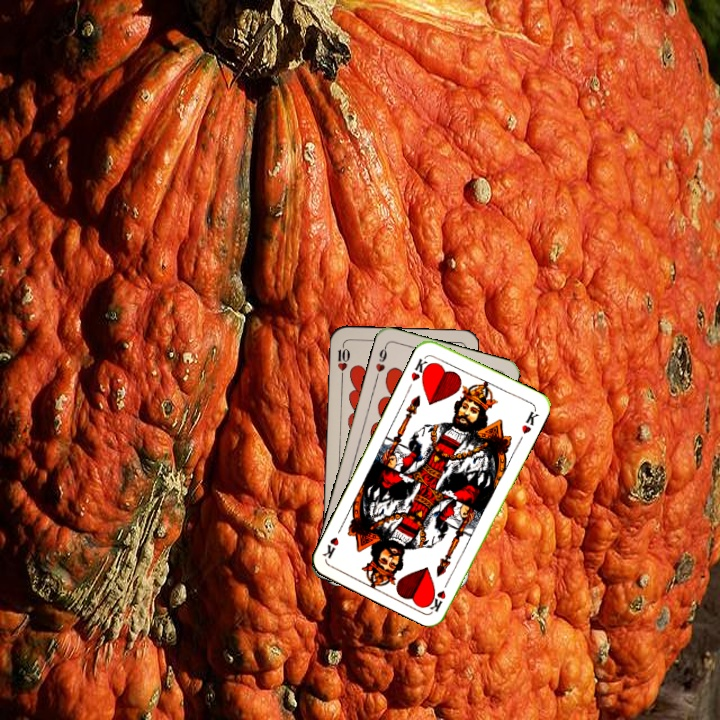H10: (333, 340, 352, 381)
H9: (372, 341, 390, 381)
HK: (426, 574, 453, 614), (407, 352, 433, 384)
